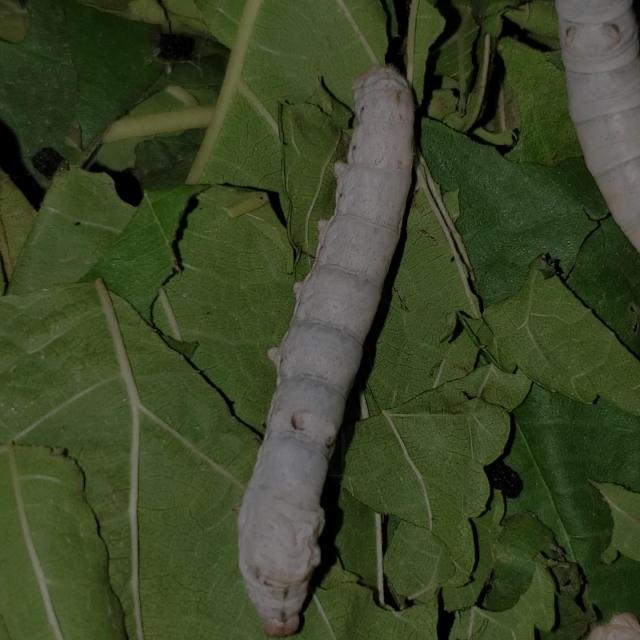Healthy: (229, 62, 421, 640)
